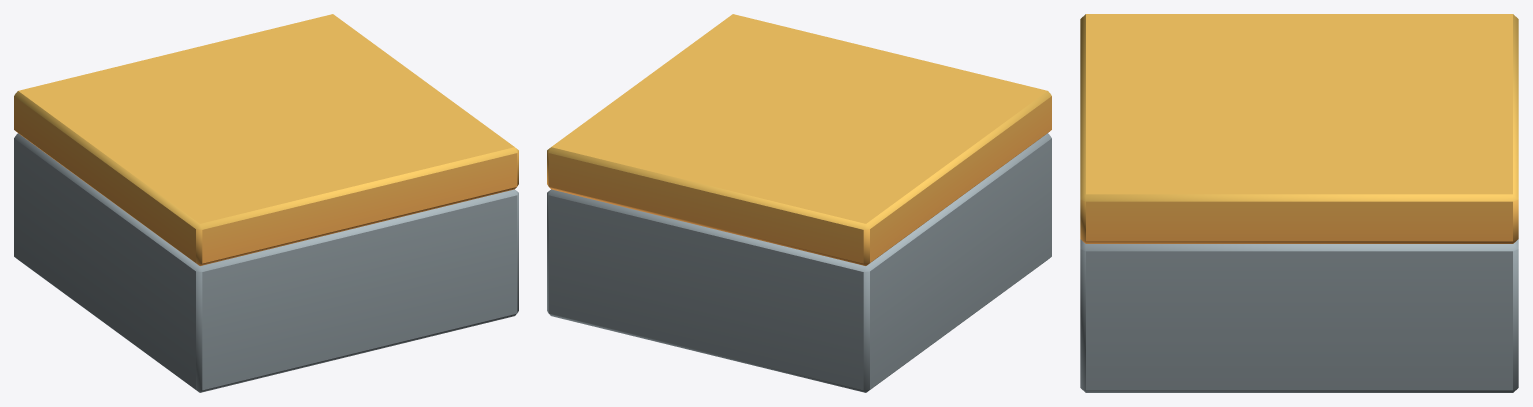
Rendered from platform_4x4x2_yellow.glb.
The picture shows the model from 3 angles, left to right: view 1: azimuth 30°, elevation 25°; view 2: azimuth 150°, elevation 25°; view 3: azimuth 270°, elevation 25°; orthographic projection. The views are drawn at different scales.
Parts seen in each view (by area): view 1: platform_4x4x2_yellow; view 2: platform_4x4x2_yellow; view 3: platform_4x4x2_yellow.
Part boxes in pixels (bbox=[...]): platform_4x4x2_yellow: bbox=[14, 14, 518, 392]; platform_4x4x2_yellow: bbox=[547, 14, 1051, 392]; platform_4x4x2_yellow: bbox=[1080, 14, 1518, 392].
Bounding box in the file's own units: 4 × 2 × 4.
1 material, 1 textured.
